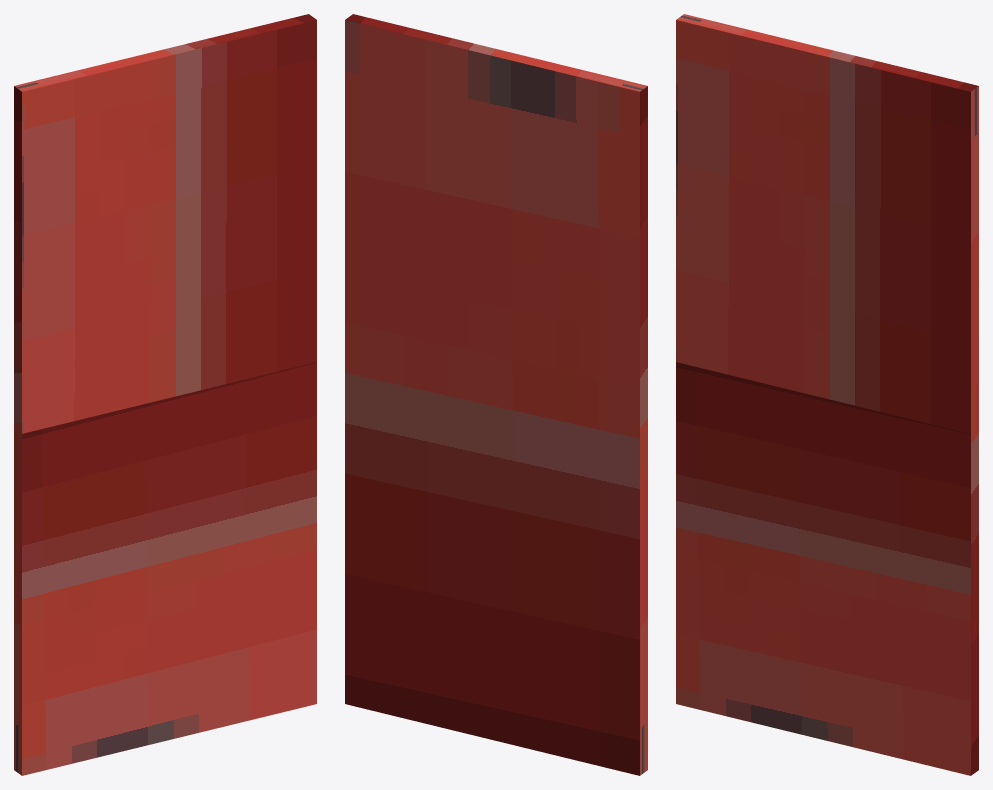
File: 144_rooftileVar2_001.gltf
3 renders of one model, left to right at view 1: azimuth 30°, elevation 25°; view 2: azimuth 150°, elevation 25°; view 3: azimuth 330°, elevation 25°, orthographic.
Visible parts, largest first — view 1: rooftileVar2_001; view 2: rooftileVar2_001; view 3: rooftileVar2_001.
Part boxes in pixels (left/top/right/bottom): rooftileVar2_001: left=14, top=14, right=316, bottom=775; rooftileVar2_001: left=345, top=14, right=647, bottom=775; rooftileVar2_001: left=676, top=14, right=978, bottom=775.
Bounding box in the file's own units: 8.41 × 18.63 × 0.3991.
Materials: 1 (1 with a texture image).
